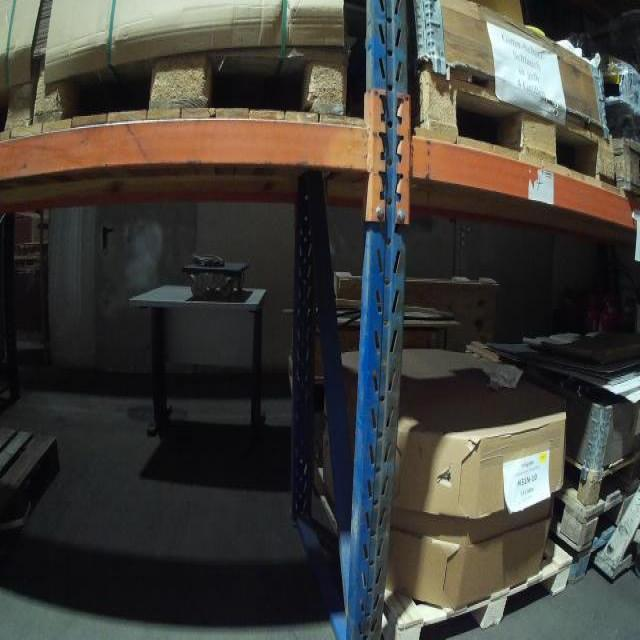pallet: (306, 467, 569, 639), (32, 42, 351, 135), (410, 59, 617, 191), (0, 421, 61, 556), (554, 490, 638, 551), (562, 455, 640, 506)
pallet_truck: (596, 460, 637, 585)
